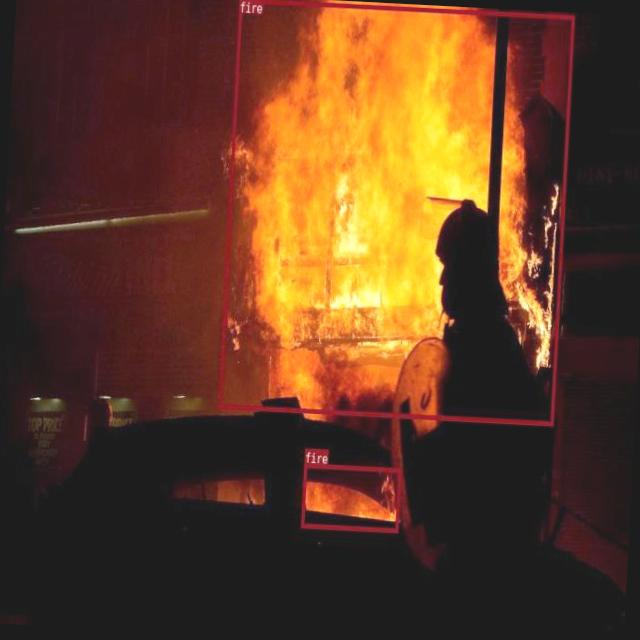fire: (218, 0, 574, 425), (301, 463, 401, 532)
